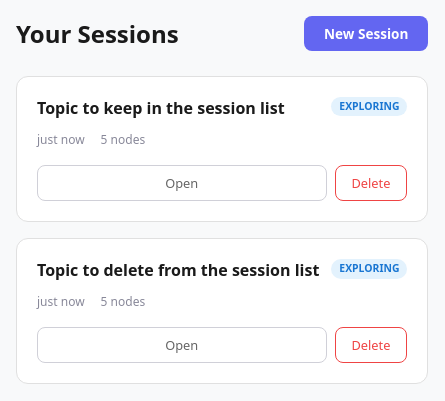
Test: SessionList › optimistically removes card after deletion
Expected: the heading "Topic to delete from the session list" is shown, [37,259,319,281]
Note: Find the second card's delete button
Click the button "Delete" below "Topic to delete from the session list" at (371, 345), box [334,327,407,363]
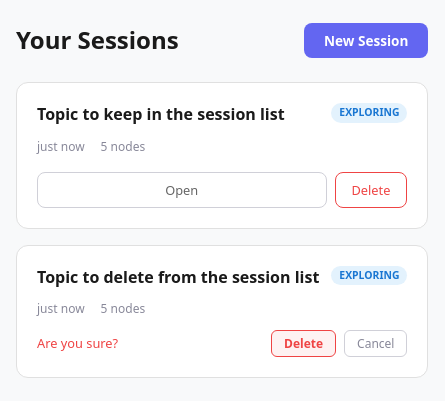
Click the button "Delete" next to "Are you sure?" at (304, 343), box [271,330,336,357]
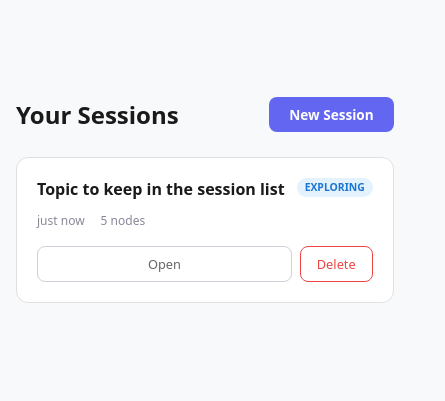
Expected: the heading "Topic to keep in the session list" is shown, [37,178,285,200]
Result: the heading "Topic to delete from the session list" is gone
